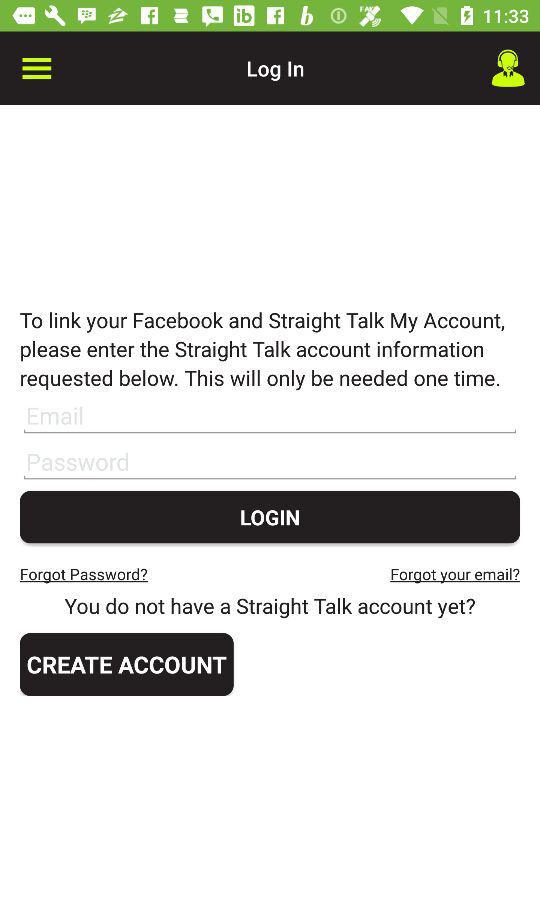EditText: (25, 406, 517, 434), (24, 453, 517, 480)
Icon: (492, 50, 526, 89), (22, 58, 53, 81)
Text: (20, 312, 505, 391), (65, 598, 476, 619), (20, 566, 149, 585), (390, 568, 521, 584), (29, 453, 130, 472), (248, 62, 304, 83), (29, 406, 84, 426)
TextButton: (21, 491, 521, 544), (21, 633, 235, 697)
UpperTaskBar: (1, 1, 540, 33)
